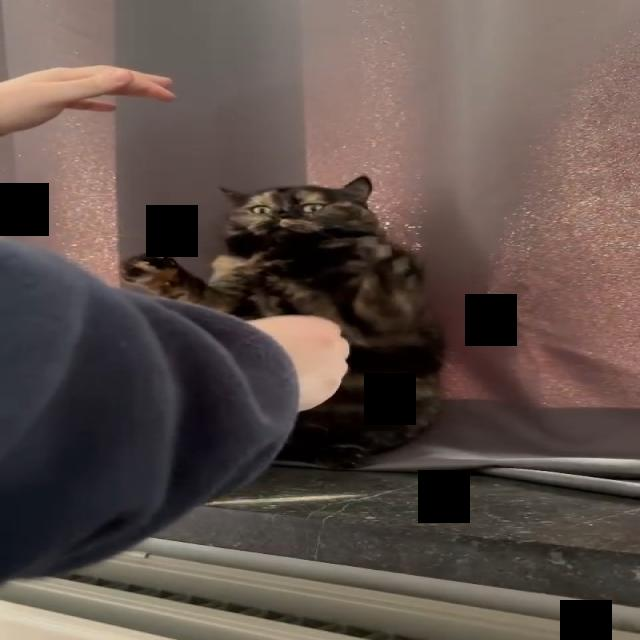authorized: (120, 175, 447, 470)
